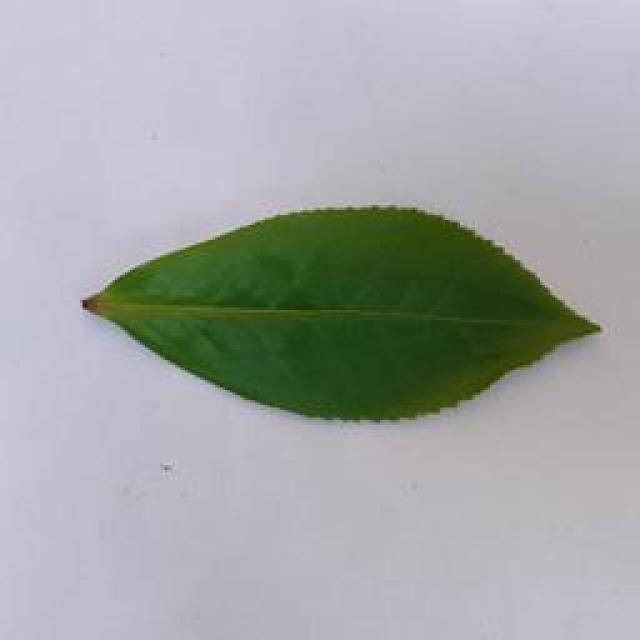Healthy: (83, 193, 602, 425)
